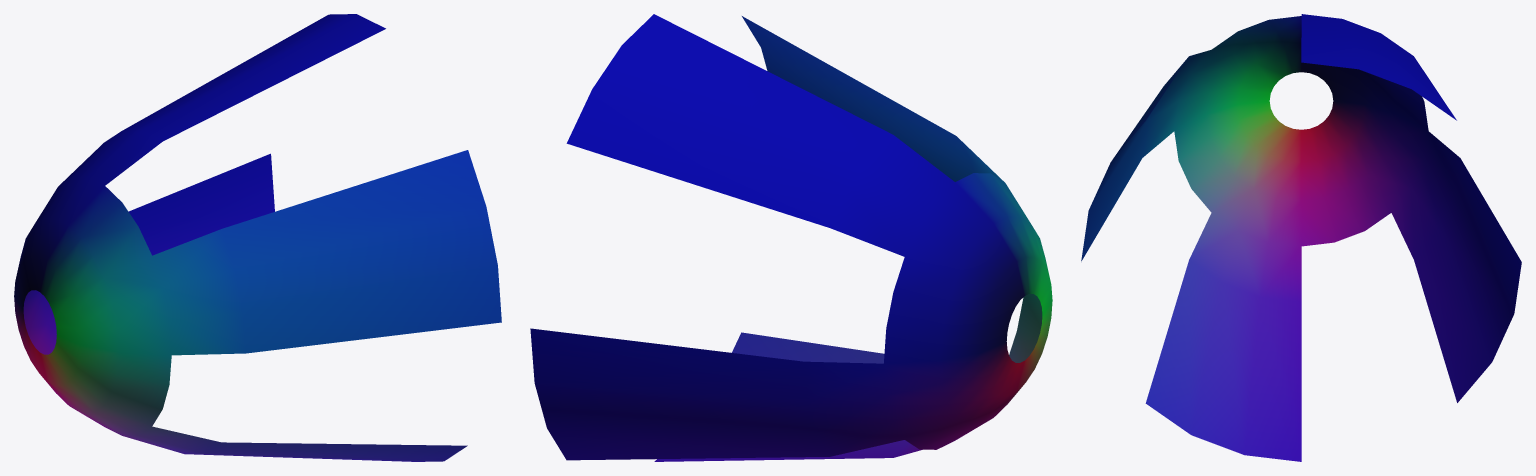
Rendered from uni_missile.fbx.
The picture shows the model from 3 angles, left to right: view 1: azimuth 30°, elevation 25°; view 2: azimuth 150°, elevation 25°; view 3: azimuth 270°, elevation 25°; orthographic projection. The views are drawn at different scales.
Visible parts, largest first — view 1: uni_missile; view 2: uni_missile; view 3: uni_missile.
Part boxes in pixels (<box>): uni_missile: <box>14,14,501,461</box>; uni_missile: <box>530,14,1052,461</box>; uni_missile: <box>1081,14,1521,461</box>.
Bounding box in the file's own units: 11088 × 11088 × 9600.
